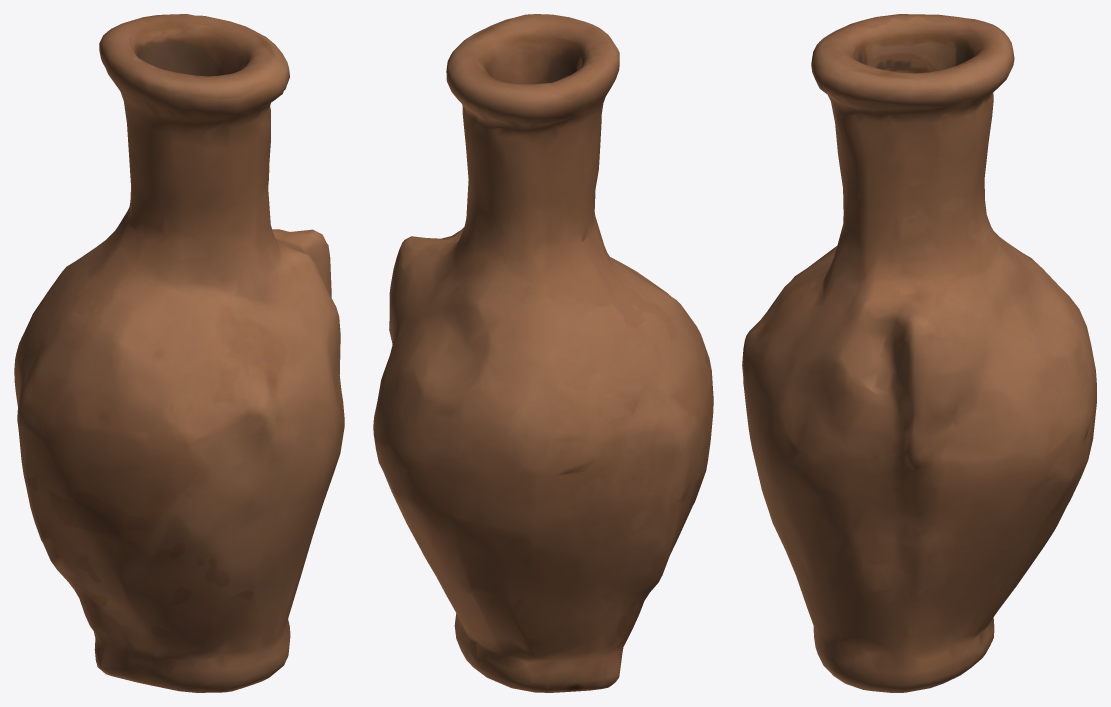
Rendered from PotVase.glb.
3 renders of one model, left to right at view 1: azimuth 30°, elevation 25°; view 2: azimuth 150°, elevation 25°; view 3: azimuth 270°, elevation 25°, orthographic.
Visible parts, largest first — view 1: PotVase; view 2: PotVase; view 3: PotVase.
Part boxes in pixels (x1,y1,x2,y2): PotVase: (14, 14, 344, 692); PotVase: (373, 14, 713, 692); PotVase: (742, 14, 1096, 692).
Bounding box in the file's own units: 0.2399 × 0.468 × 0.2421.
Materials: 1 (1 with a texture image).
